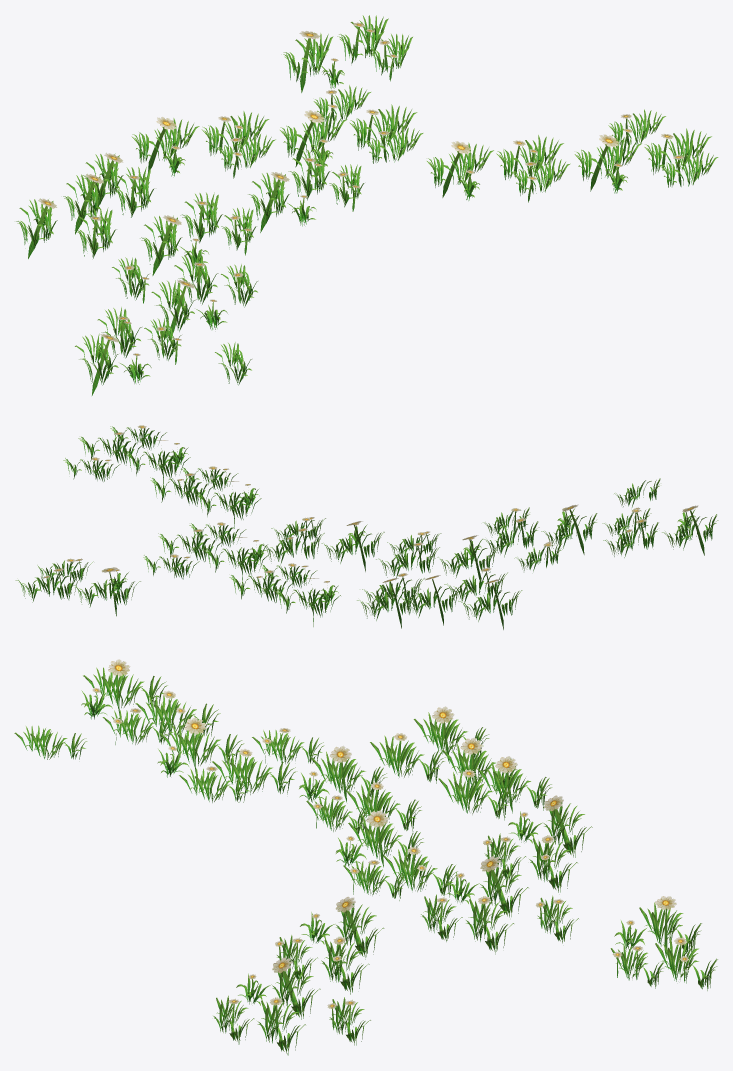
The model's file is huahua_03.fbx.
The picture shows the model from 3 angles, top to bottom: view 1: azimuth 30°, elevation 25°; view 2: azimuth 150°, elevation 25°; view 3: azimuth 270°, elevation 25°; orthographic projection. The views are drawn at different scales.
Parts seen in each view (by area): view 1: polySurface2709; view 2: polySurface2709; view 3: polySurface2709.
Part boxes in pixels (x1,y1,x2,y2): polySurface2709: (16,15,718,395); polySurface2709: (15,425,718,629); polySurface2709: (14,659,717,1055).
Size of the model in its own units: 2888 by 231 by 2350.
